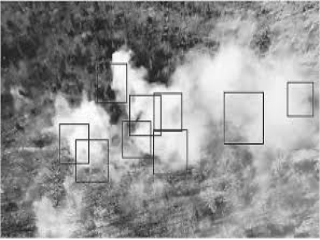smoke: (176, 41, 302, 148), (24, 188, 94, 236), (53, 99, 110, 153), (111, 50, 157, 98)
